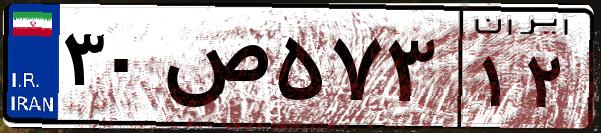0: (110, 28, 158, 98)
1: (475, 38, 525, 113)
2: (525, 38, 570, 115)
3: (385, 28, 445, 110), (57, 26, 110, 100)
5: (270, 28, 330, 110)
7: (330, 28, 385, 110)
ص: (158, 20, 270, 120)
